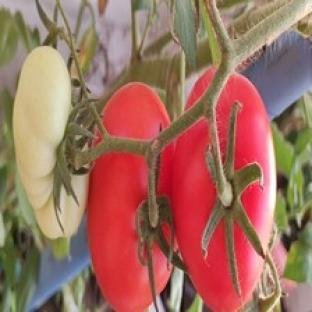Tomato: (172, 119, 263, 311), (13, 46, 87, 238), (87, 152, 153, 311)
